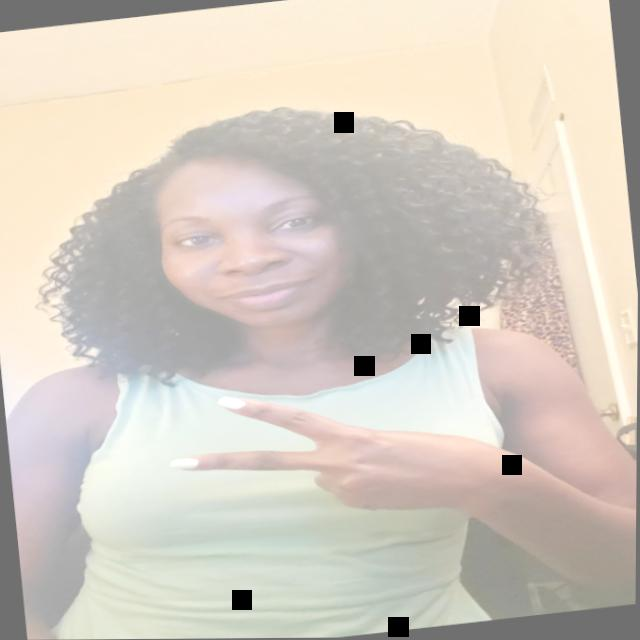Scissors: (164, 365, 495, 549)
